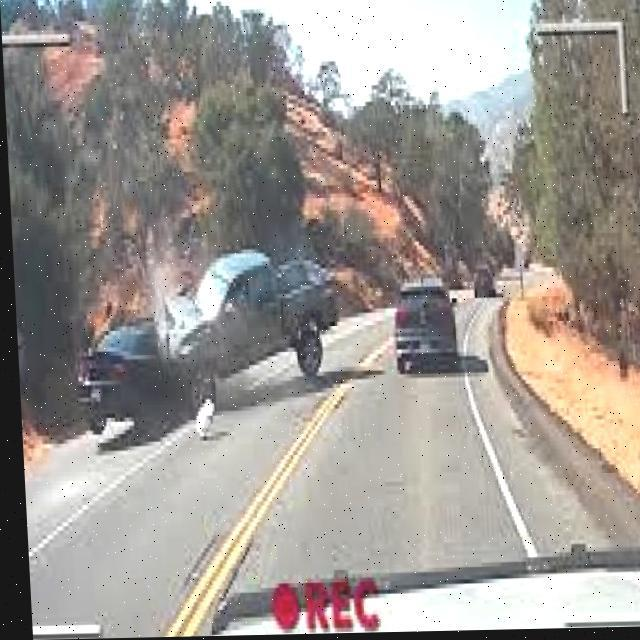multiple_accident: (57, 213, 350, 465)
normal: (390, 255, 465, 398)
